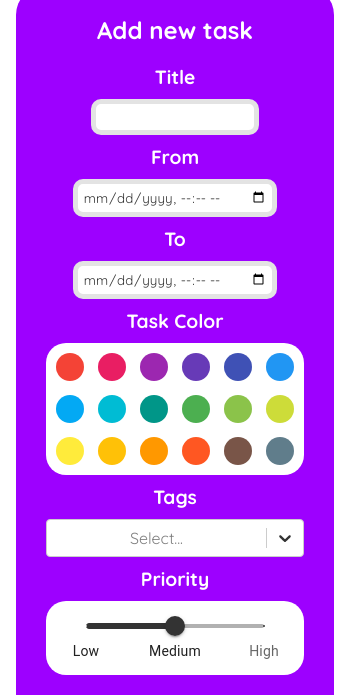
Test: <TaskForm /> › displays error message if user is not logged in
Type "New Task" into the field with test id "title" at (175, 117), box [91,99,259,135]
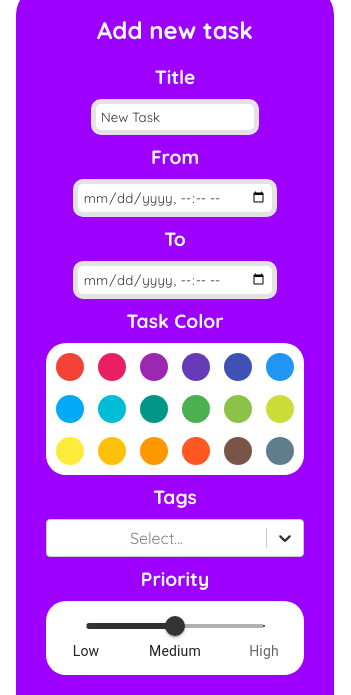
Type "2023-07-09T12:00" into the field with test id "start-time" at (175, 198), box [73,179,277,217]
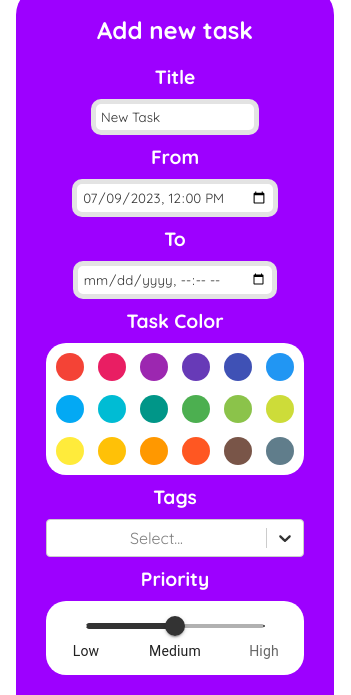
Type "2023-07-09T13:00" into the field with test id "end-time" at (175, 280), box [73,261,277,299]
(page scrolled)
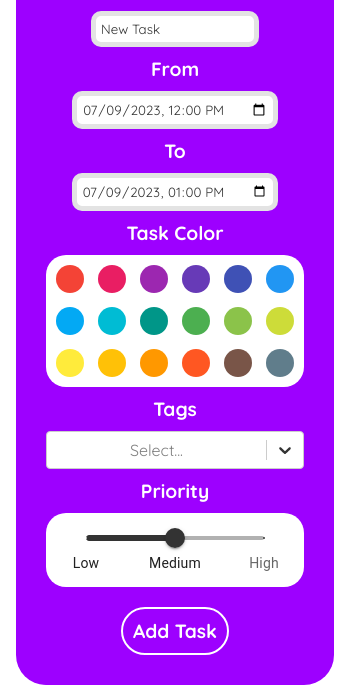
Submit the form from the button "Add Task", box [121,607,229,655]
(page scrolled)
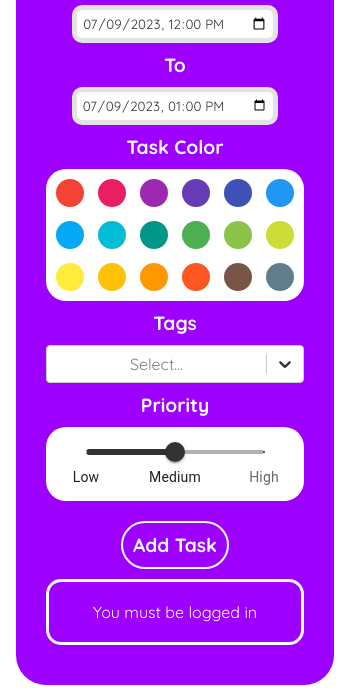
Expected: the text "You must be logged in" is shown, [46,579,304,645]
